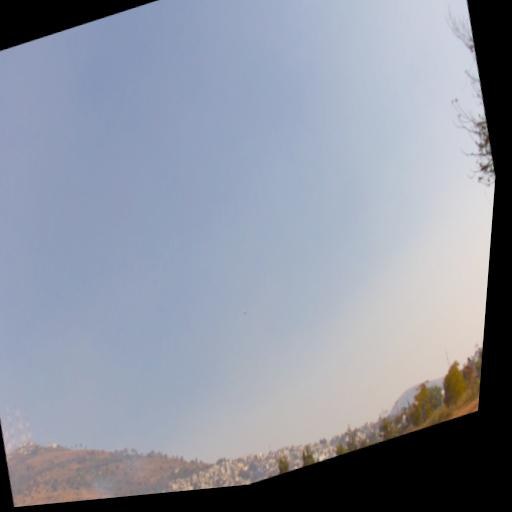drones: (242, 308, 250, 317)
